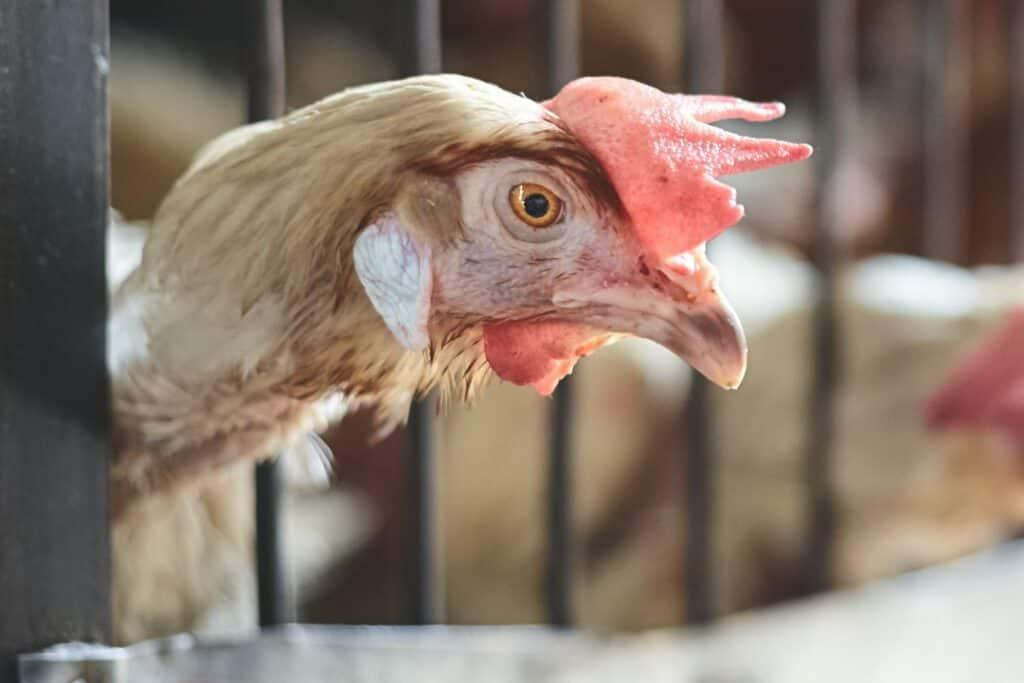AbNormal: (550, 79, 811, 264)
